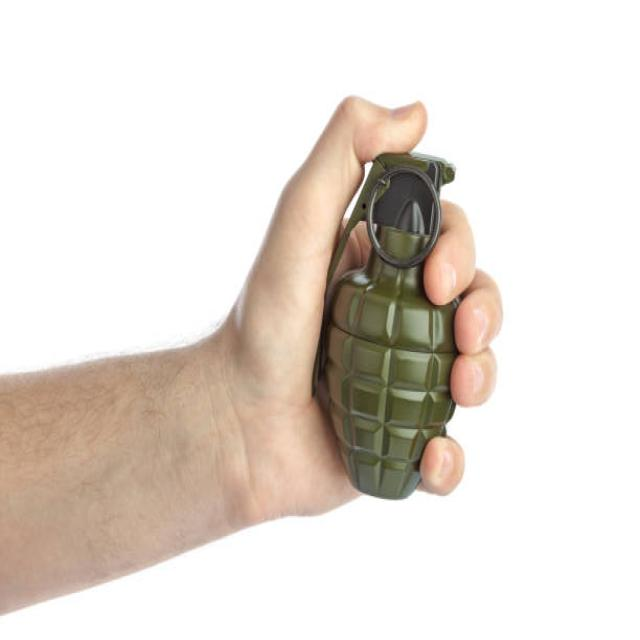grenade: (313, 153, 463, 500)
